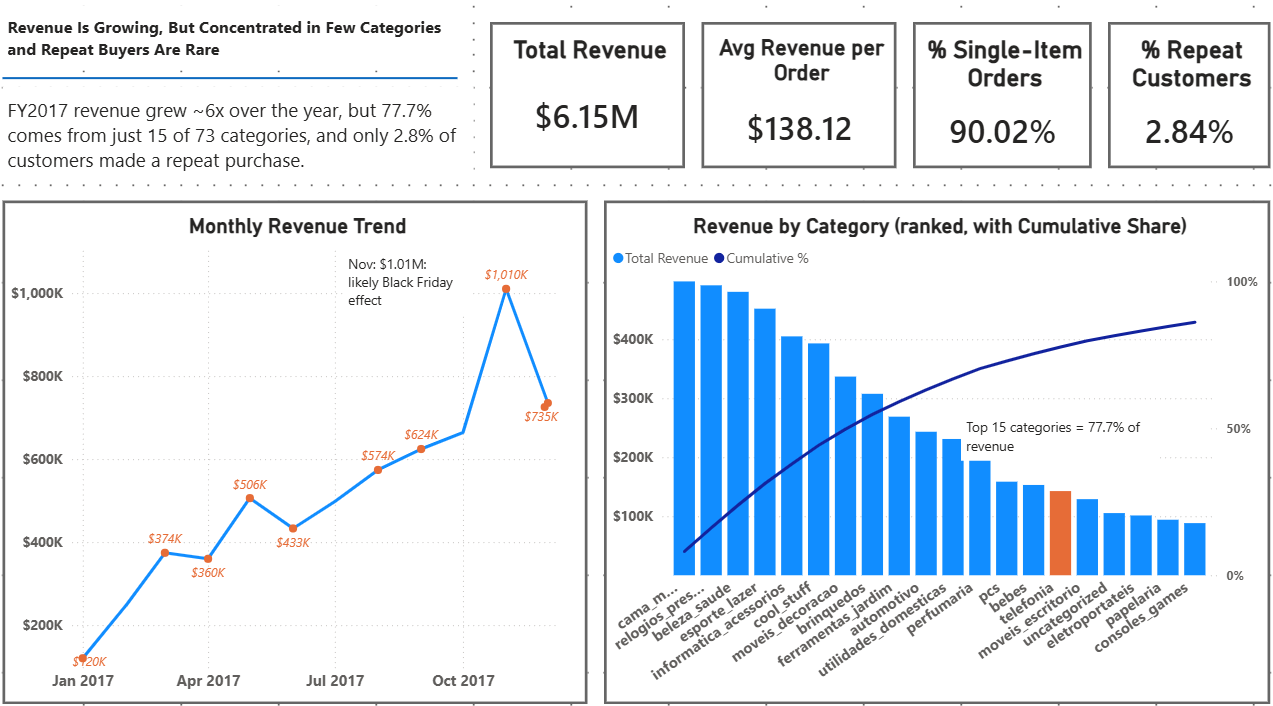

The dashboard page shown, as its layout file describes it:
{"tool":"powerbi","page":{"name":"Page 1","canvas":[1280,720],"ordinal":0},"visuals":[{"type":"cardVisual","title":"Total Revenue","fields":{"Data":["Sum(olist v_master_orders.price)"]},"box":[16,16,240,128],"z":0},{"type":"cardVisual","title":"Avg Revenue per Order","fields":{"Data":["olist v_master_orders.Avg Revenue Per Order"]},"box":[288,16,256,128],"z":1},{"type":"cardVisual","title":"% Single-Item Orders","fields":{"Data":["Orders.Pct Single Item Orders"]},"box":[576,16,240,128],"z":2},{"type":"cardVisual","title":"% Repeat Customers","fields":{"Data":["Orders.Pct Repeat Customers"]},"box":[848,16,240,128],"z":3},{"type":"lineChart","title":"Monthly Revenue Trend","fields":{"Y":["Sum(Orders.price)"],"Category":["Orders.order_purchase_timestamp.Variation.Date Hierarchy.Year","Orders.order_purchase_timestamp.Variation.Date Hierarchy.Quarter","Orders.order_purchase_timestamp.Variation.Date Hierarchy.Month"]},"box":[16,192,560,480],"z":4},{"type":"barChart","title":"Top Categories Bar Chart","fields":{"Category":["Orders.product_category_name"],"Y":["Sum(Orders.price)"]},"box":[592,192,672,480],"z":5}]}

Visuals, with their boxes in screenshot pixels (x1, y1, x2, y2), scaled from the page's 1280x720 canvas onto the 1273x706 screenshot:
"Total Revenue" cardVisual: (left=16, top=16, right=255, bottom=141)
"Avg Revenue per Order" cardVisual: (left=286, top=16, right=541, bottom=141)
"% Single-Item Orders" cardVisual: (left=573, top=16, right=812, bottom=141)
"% Repeat Customers" cardVisual: (left=843, top=16, right=1082, bottom=141)
"Monthly Revenue Trend" lineChart: (left=16, top=188, right=573, bottom=659)
"Top Categories Bar Chart" barChart: (left=589, top=188, right=1257, bottom=659)
